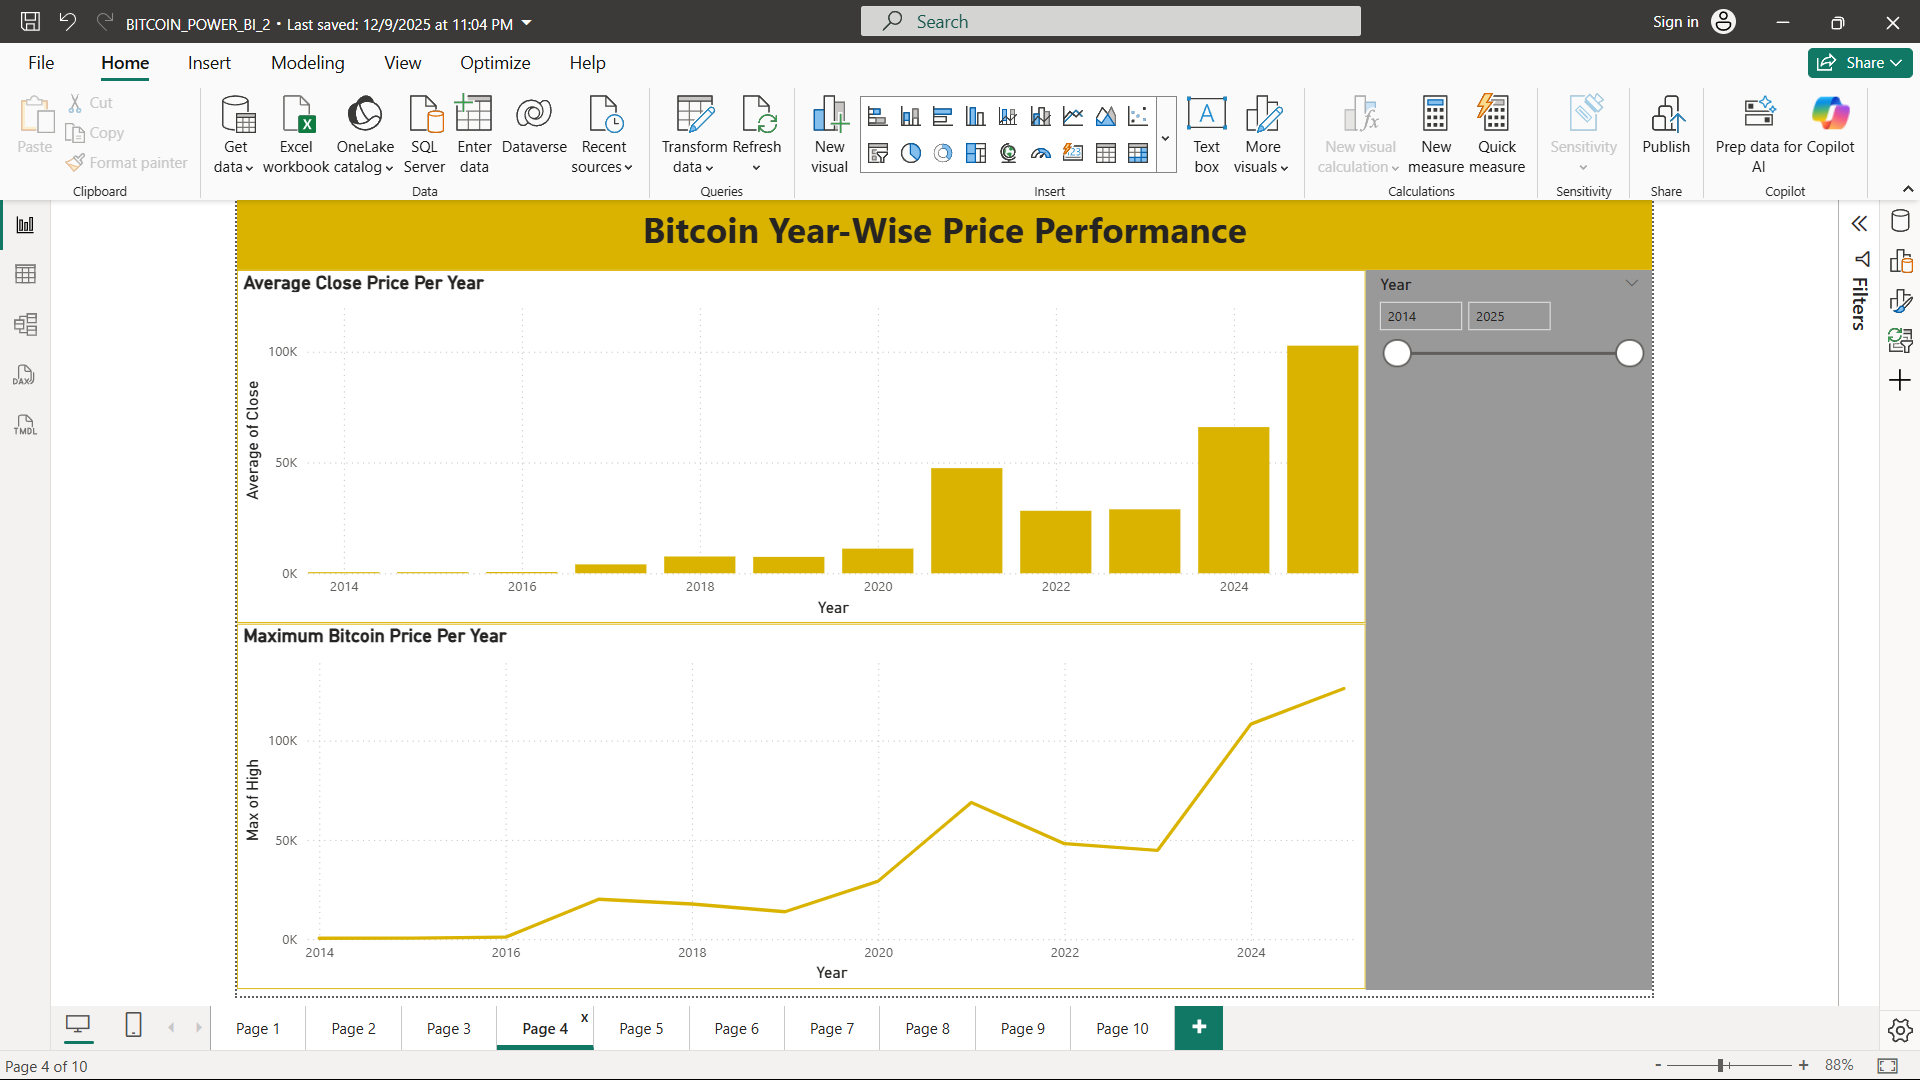

What the dashboard file says about the page in this screenshot:
{"tool":"powerbi","page":{"name":"Page 4","canvas":[1280,720],"ordinal":3},"visuals":[{"type":"textbox","box":[0,0,1280.5,63.4],"z":0},{"type":"columnChart","title":"Average Close Price Per Year","fields":{"Category":["bitcoin_data_2014_to_2025.Year"],"Y":["Avg(bitcoin_data_2014_to_2025.Close)"]},"box":[0,63.4,1020.7,319.5],"z":1000},{"type":"lineChart","title":"Maximum Bitcoin Price Per Year","fields":{"Category":["bitcoin_data_2014_to_2025.Year"],"Y":["Max(bitcoin_data_2014_to_2025.High)"]},"box":[0,382.9,1020.7,330.5],"z":2000},{"type":"slicer","fields":{"Values":["bitcoin_data_2014_to_2025.Year"]},"box":[1020.7,63.4,259.8,650],"z":3000}]}

Visuals, with their boxes on the page's 1280x720 design canvas (x1, y1, x2, y2). These are canvas units, not pixel positions in the 1920x1080 screenshot, which may show the page scaled, cropped or inside an application window:
textbox: l=0, t=0, r=1280, b=63
"Average Close Price Per Year" columnChart: l=0, t=63, r=1021, b=383
"Maximum Bitcoin Price Per Year" lineChart: l=0, t=383, r=1021, b=713
slicer - bitcoin_data_2014_to_2025.Year: l=1021, t=63, r=1280, b=713
